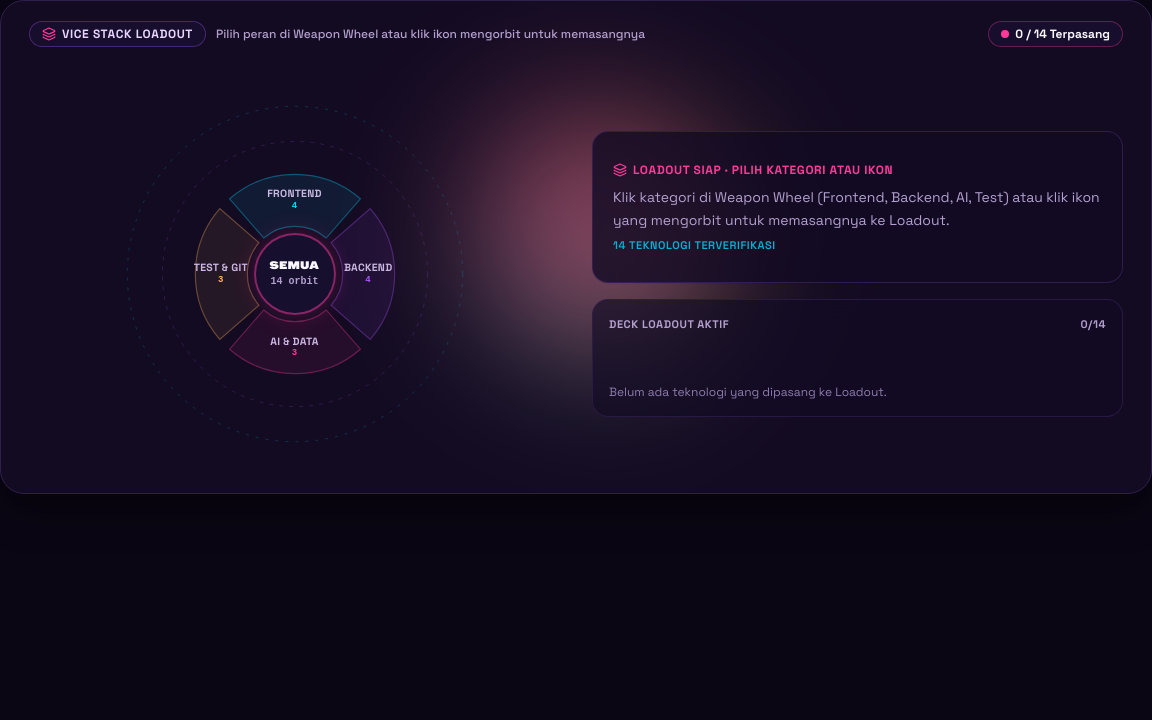
Scenario: ViceLoadoutCard › filters role details when selecting a weapon wheel sector and resets on All hub click
Click the button with aria-label "Filter sektor Frontend & UI" at (295, 200), box [259,186,330,215]
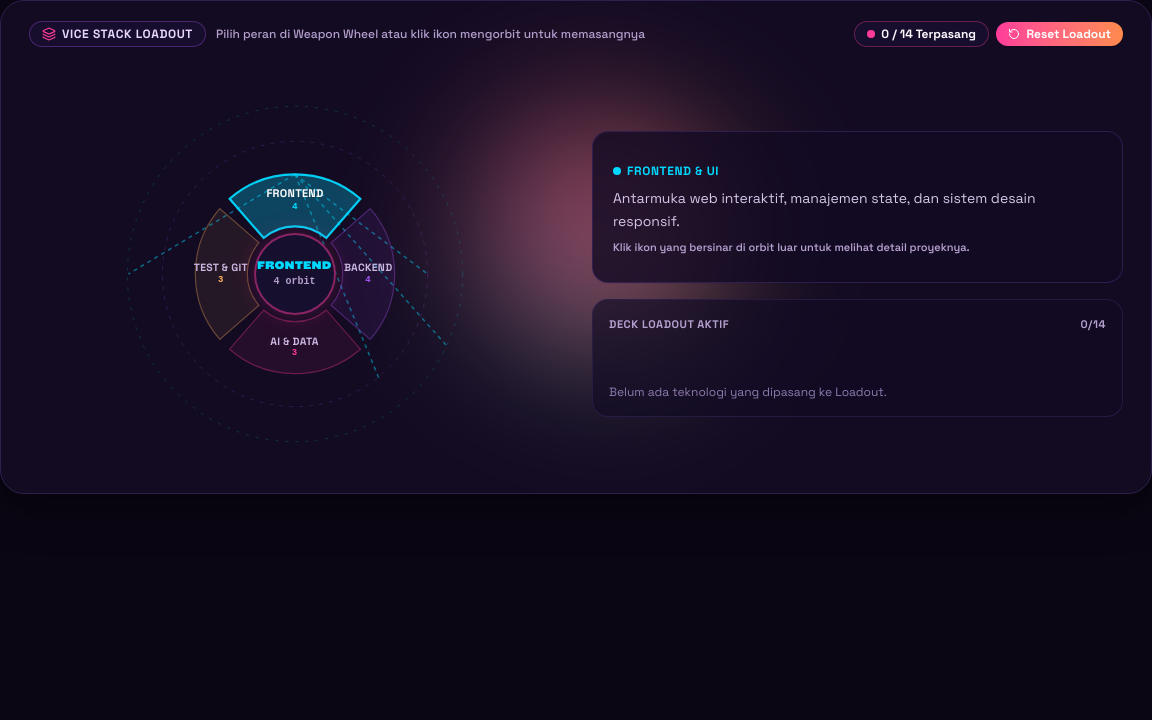
Check: the text "Antarmuka web interaktif, manajemen state, dan sistem desain responsif." is shown, box [613,187,1102,233]
Click the button with aria-label "Tampilkan semua peran" at (294, 274), box [254,233,336,315]
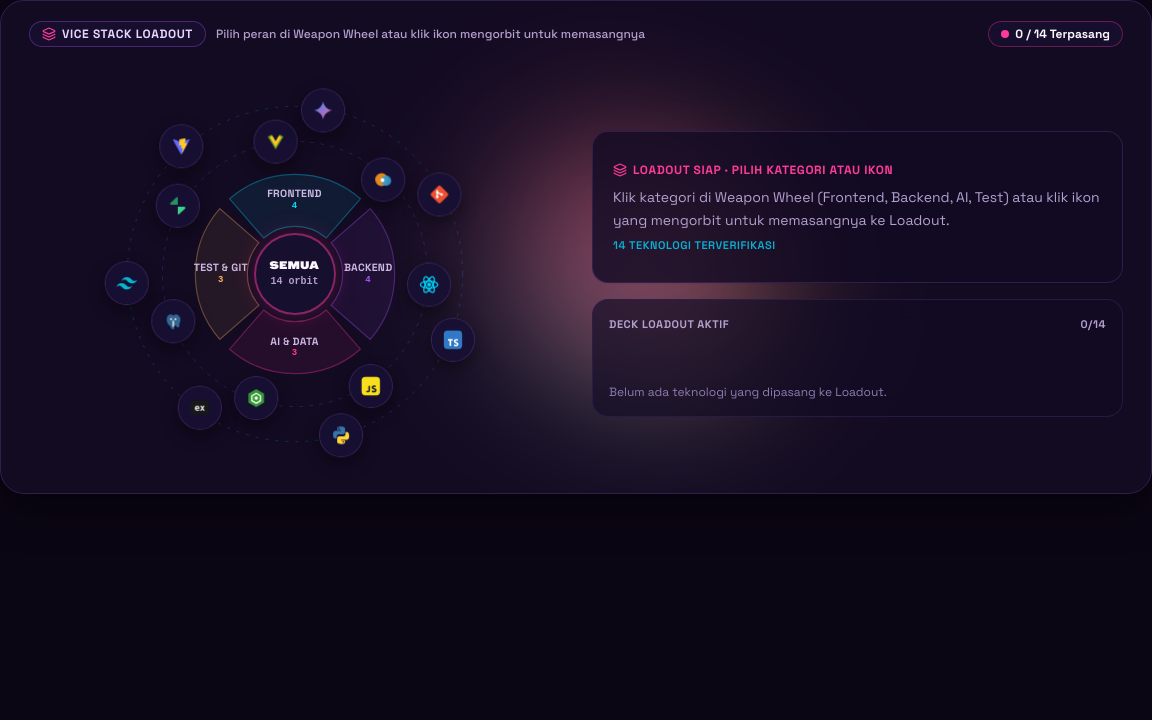
Check: the text "Loadout Siap · Pilih Kategori atau Ikon" is shown, box [633,162,893,178]
